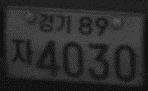0: (113, 43, 137, 84), (63, 40, 84, 79)
3: (87, 42, 110, 81)
4: (36, 38, 61, 79)
8: (77, 14, 94, 36)
9: (94, 16, 109, 37)
경기_H: (37, 12, 72, 34)
자: (9, 37, 35, 66)
